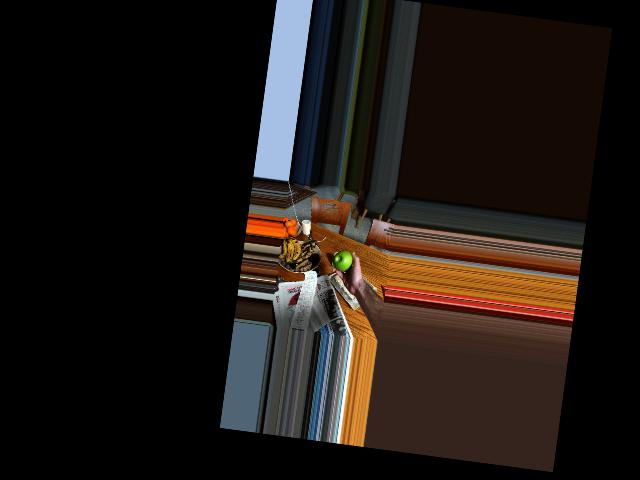apple: (332, 249, 353, 273)
